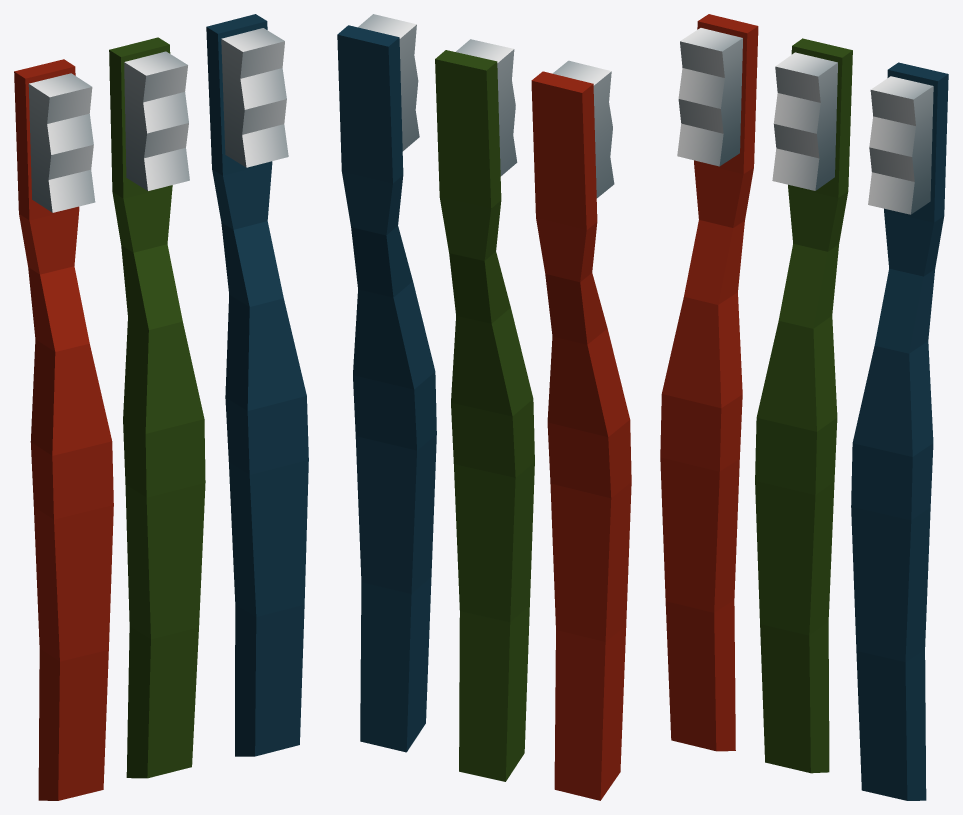
The model's file is 3toothbrushes.fbx.
3 views of the same model, side by side, from view 1: azimuth 30°, elevation 25°; view 2: azimuth 150°, elevation 25°; view 3: azimuth 330°, elevation 25° (orthographic). The views are drawn at different scales.
Visible parts, largest first — view 1: ToothbrushGreen, ToothbrushBlue, ToothbrushRed; view 2: ToothbrushGreen, ToothbrushRed, ToothbrushBlue; view 3: ToothbrushRed, ToothbrushBlue, ToothbrushGreen.
Part boxes in pixels (x1,y1,x2,y2): ToothbrushGreen: (109, 37, 205, 778); ToothbrushBlue: (206, 14, 308, 756); ToothbrushRed: (14, 59, 113, 800); ToothbrushGreen: (435, 39, 534, 781); ToothbrushRed: (531, 60, 631, 800); ToothbrushBlue: (337, 14, 436, 752); ToothbrushRed: (660, 14, 758, 751); ToothbrushBlue: (851, 62, 948, 800); ToothbrushGreen: (755, 38, 852, 773).
Size of the model in its own units: 25.23 by 68.12 by 8.15.
